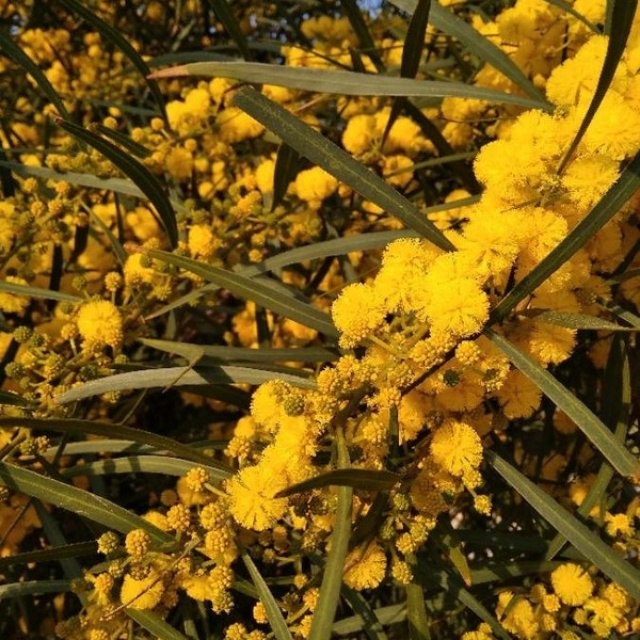obstacle: (151, 122, 581, 550)
